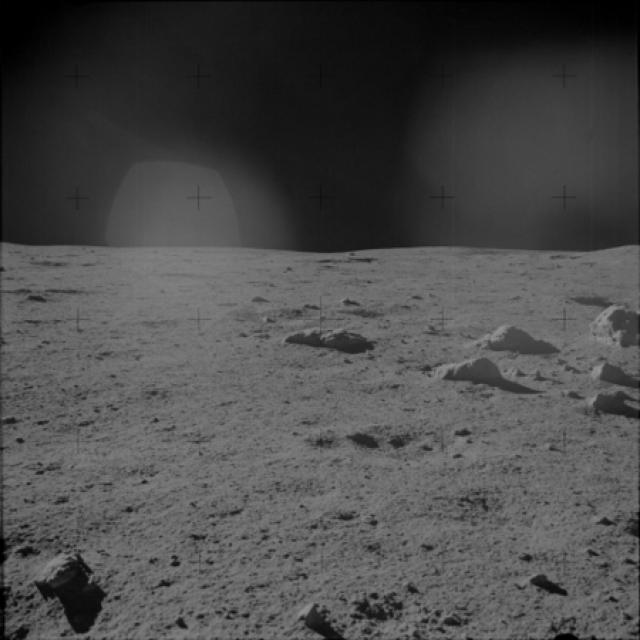crater: (318, 418, 474, 471), (559, 289, 639, 314)
rock: (32, 544, 108, 598), (274, 324, 380, 360), (576, 303, 640, 355), (418, 351, 503, 388), (469, 321, 553, 356), (579, 385, 632, 419), (577, 354, 635, 383), (295, 593, 325, 630)
